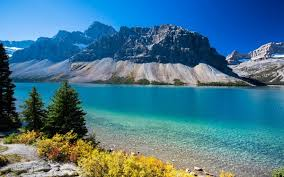beach: (30, 80, 283, 171)
mountain: (25, 24, 278, 85)
tree: (27, 79, 94, 144)
